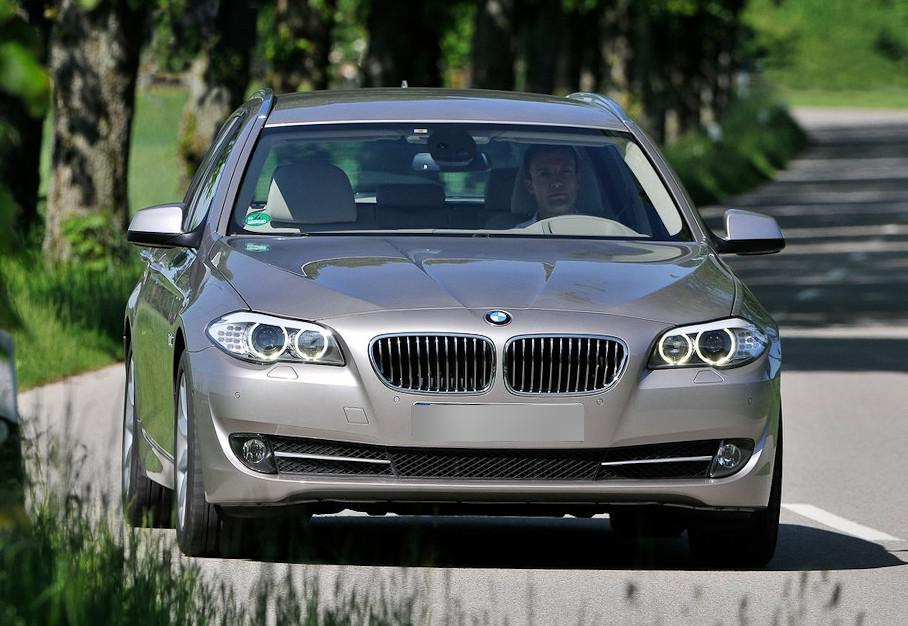Wagon: (122, 88, 785, 569)
